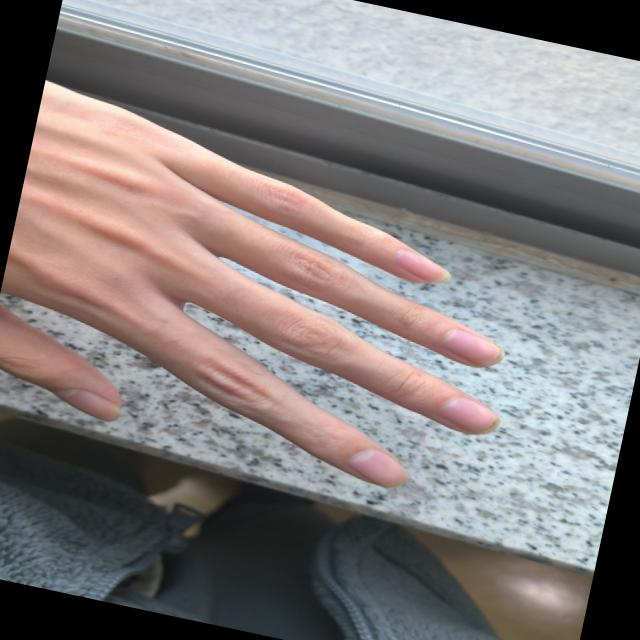Nail: (345, 448, 407, 488), (439, 395, 500, 434), (441, 328, 503, 366), (395, 248, 449, 283)
